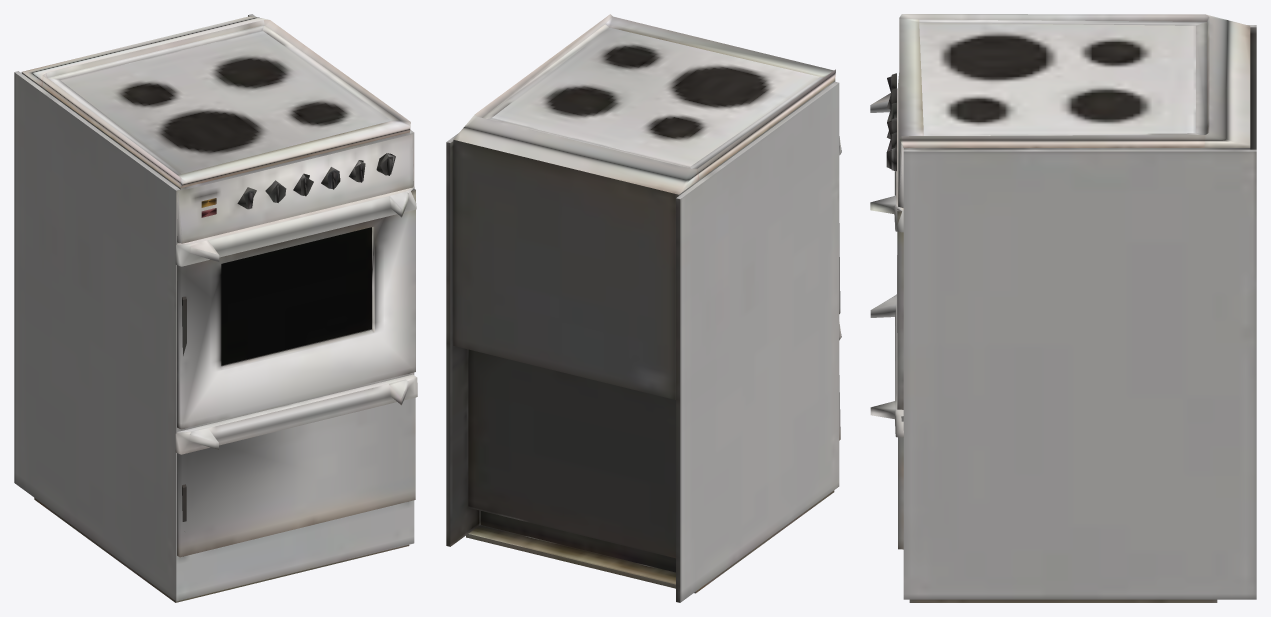
Rendered from electric_stove.glb.
3 renders of one model, left to right at view 1: azimuth 30°, elevation 25°; view 2: azimuth 150°, elevation 25°; view 3: azimuth 270°, elevation 25°, orthographic. The views are drawn at different scales.
Visible parts, largest first — view 1: stovetop, door_top; view 2: stovetop; view 3: stovetop.
Boxes of the visible parts, x1,y1,x2,y2 form: stovetop: (14, 14, 417, 602); door_top: (221, 227, 371, 365); stovetop: (446, 14, 841, 602); stovetop: (870, 14, 1256, 602).
Size of the model in its own units: 0.5026 by 0.8577 by 0.6446.
2 materials, 2 textured.
